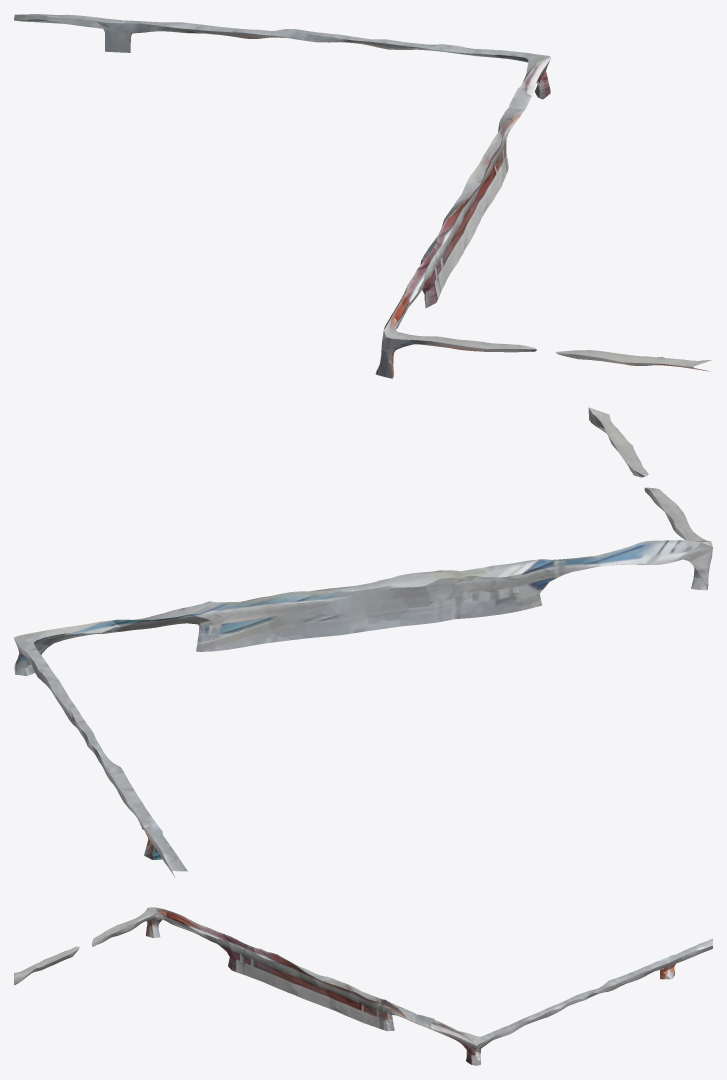
The picture shows the model from 3 angles, top to bottom: view 1: azimuth 30°, elevation 25°; view 2: azimuth 150°, elevation 25°; view 3: azimuth 270°, elevation 25°; orthographic projection. The views are drawn at different scales.
Size of the model in its own units: 1.88 by 0.2105 by 4.18.
1 material, 1 textured.
